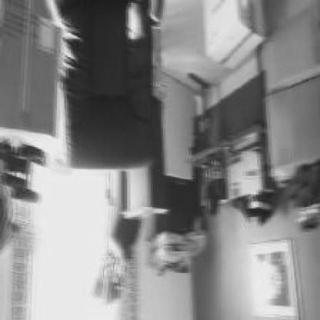other: (43, 183, 100, 299), (217, 243, 247, 310)
